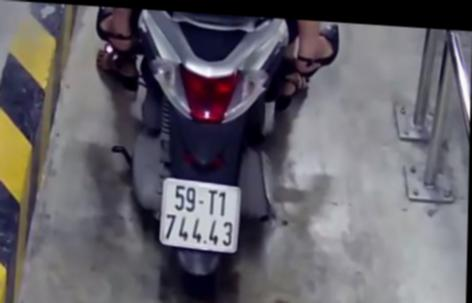License_Plate: (149, 173, 250, 260)
